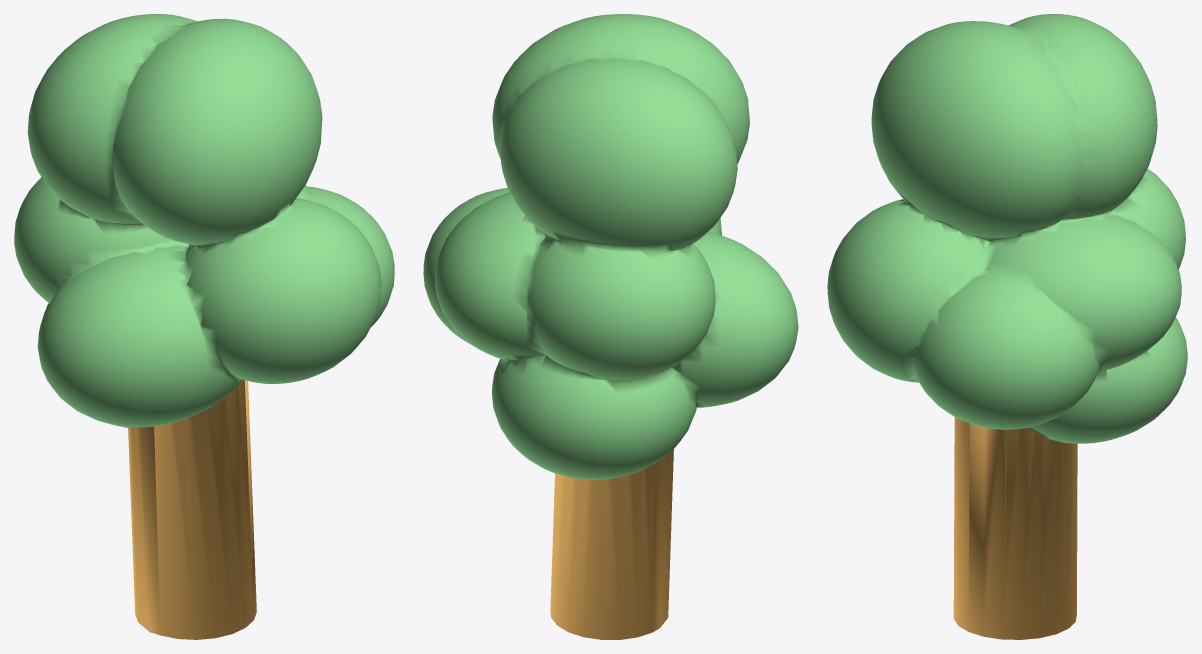
File: tinker1.glb
The picture shows the model from 3 angles, left to right: view 1: azimuth 30°, elevation 25°; view 2: azimuth 150°, elevation 25°; view 3: azimuth 270°, elevation 25°; orthographic projection.
Parts seen in each view (by area): view 1: obj_0.002; view 2: obj_0.002; view 3: obj_0.002.
Part boxes in pixels (x1,y1,x2,y2): obj_0.002: [14, 14, 394, 639]; obj_0.002: [423, 14, 798, 639]; obj_0.002: [827, 14, 1187, 639].
Bounding box in the file's own units: 89.39 × 147 × 81.53.
